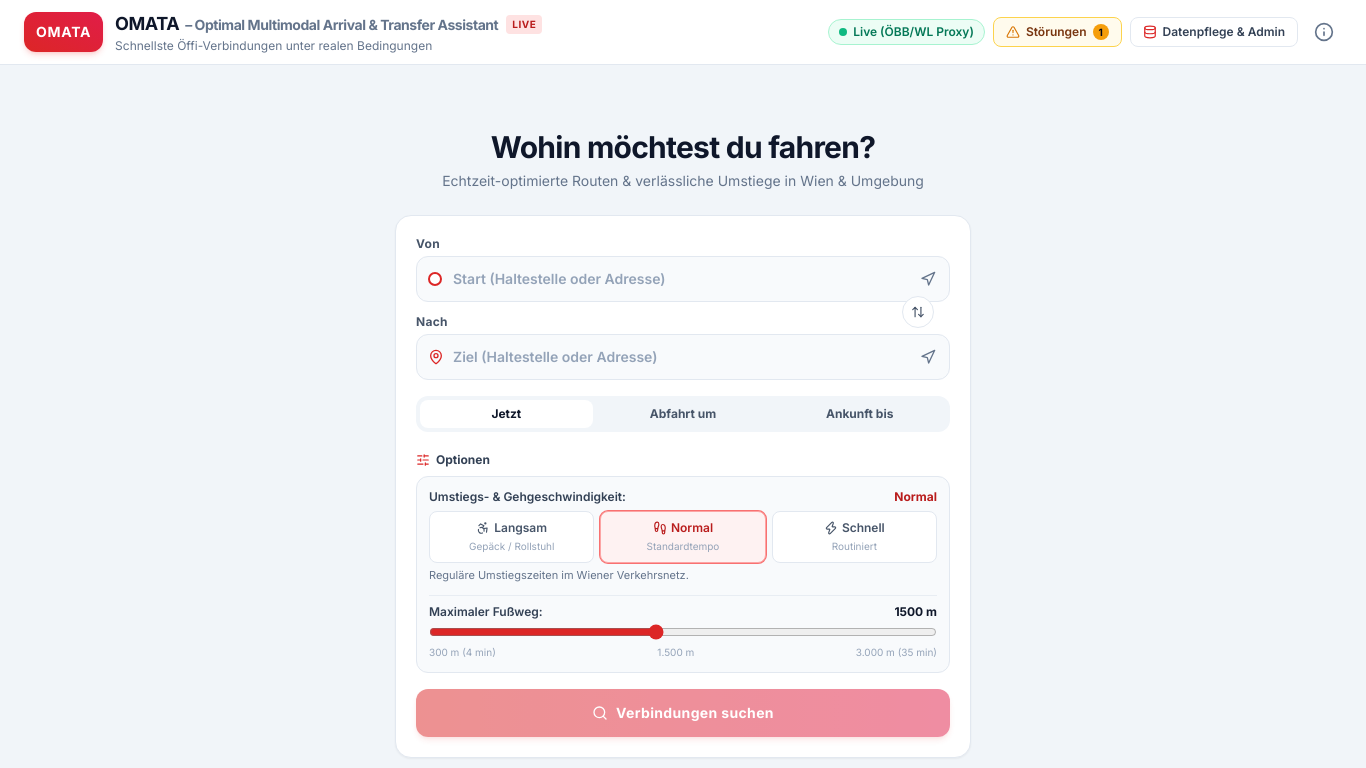
OMATA – Optimal Multimodal Arrival & Transfer Assistant Frontend › renders permanently visible options with transfer speed selection (Langsam, Normal, Schnell)
The image size is (1366, 768).
Expected: the text "Optionen" is shown, [436,452,490,468]
Expected: the button "Normal Standardtempo" is shown, [600,511,766,563]
Select "Langsam"
Click the button "Langsam Gepäck / Rollstuhl". click: (512,537)
box: [429,511,594,563]
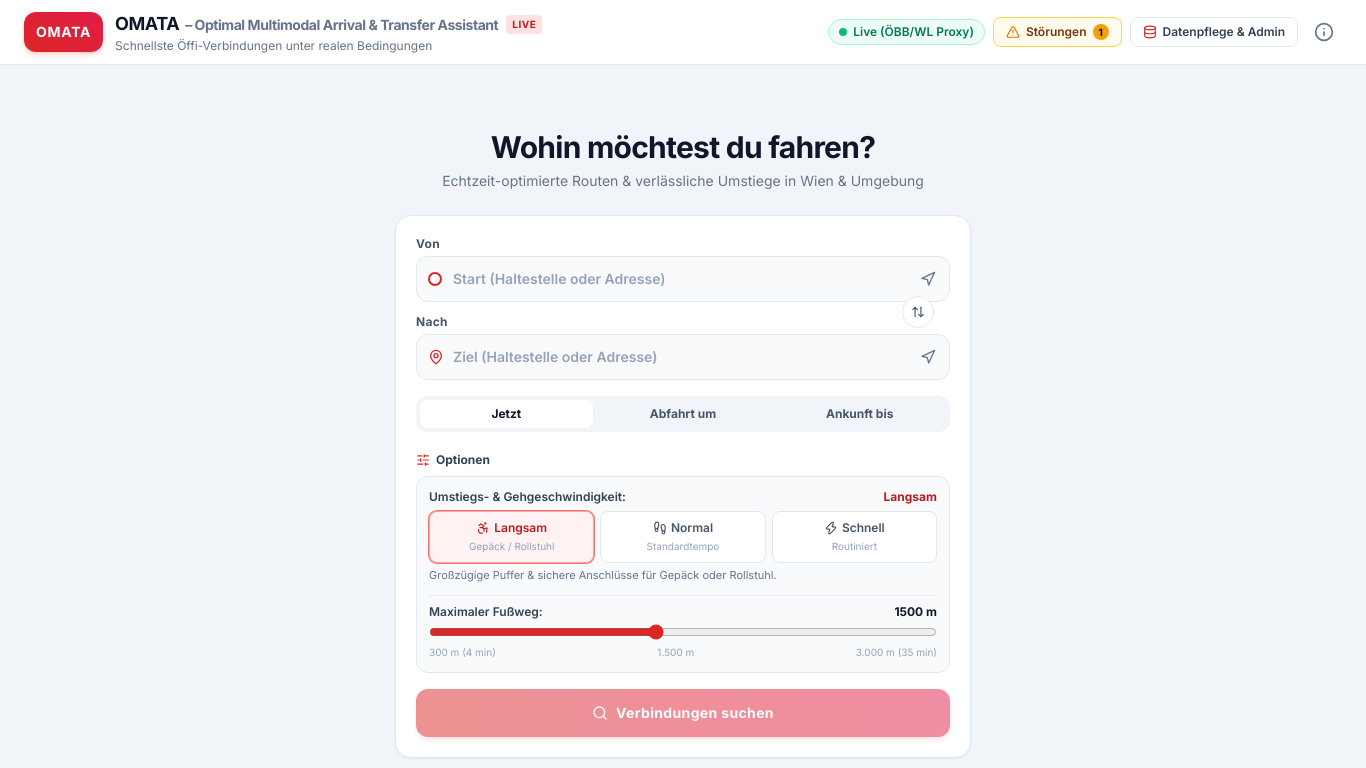
Result: the text "Gepäck oder Rollstuhl" is shown at [429,568,777,582]
Select "Schnell"
Click the button "Schnell Routiniert". click: (854,537)
box: [772,511,937,563]
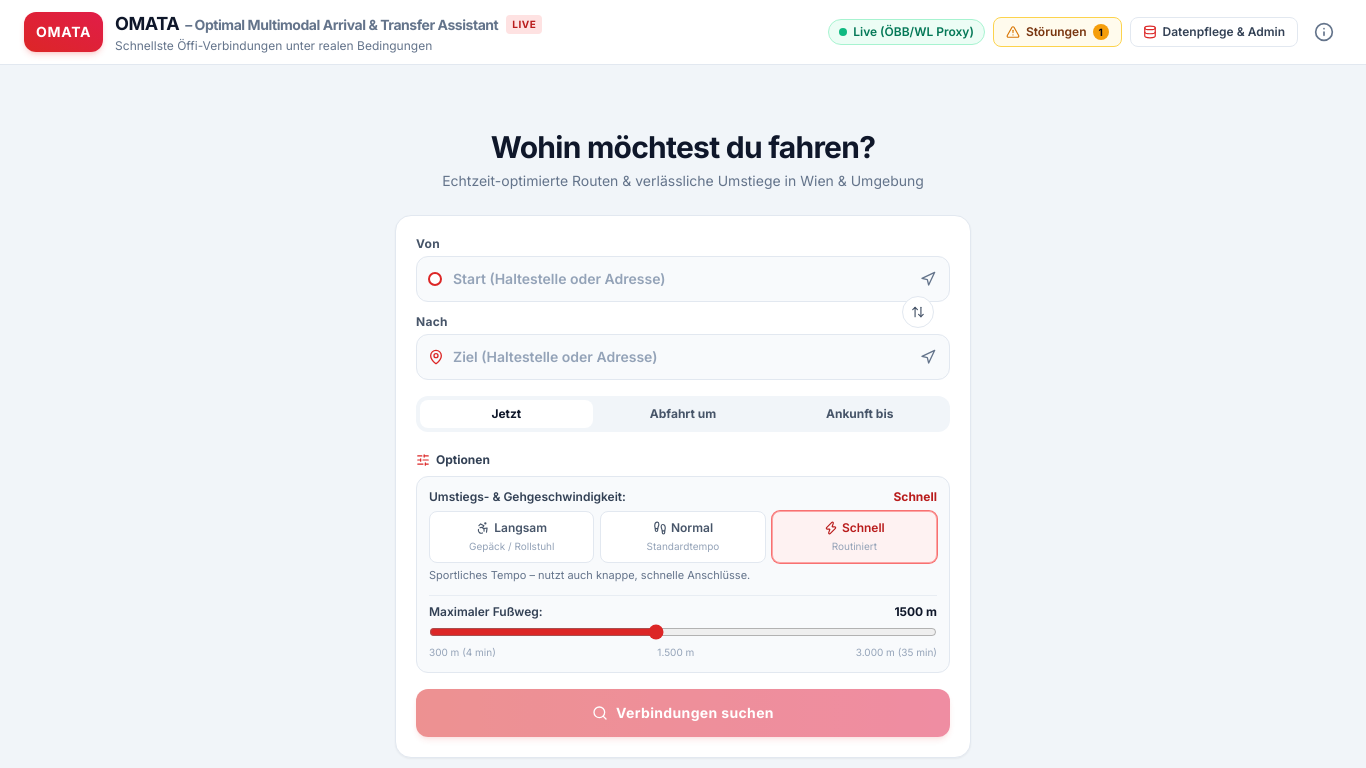
Result: the text "Sportliches Tempo – nutzt auch knappe, schnelle Anschlüsse." is shown at [429,568,750,582]
